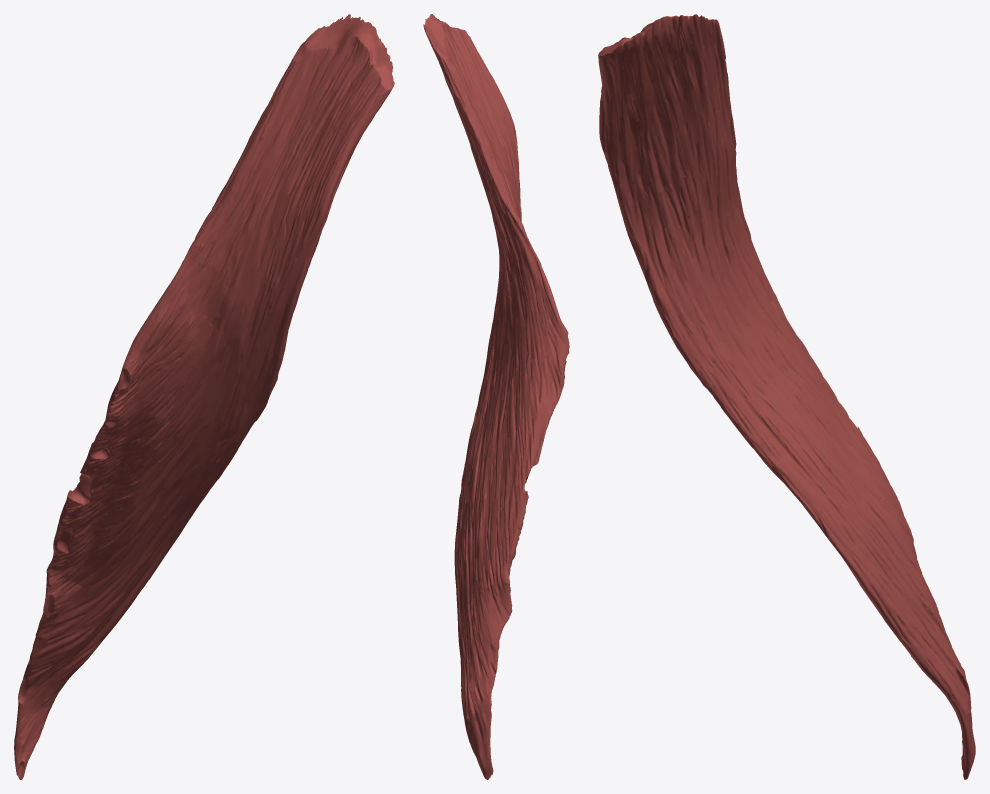
File: FMA22729.glb
3 views of the same model, side by side, from view 1: azimuth 30°, elevation 25°; view 2: azimuth 150°, elevation 25°; view 3: azimuth 270°, elevation 25° (orthographic). The views are drawn at different scales.
Visible parts, largest first — view 1: FMA22729; view 2: FMA22729; view 3: FMA22729.
Boxes of the visible parts, left/top/right/bottom form: FMA22729: left=14, top=14, right=394, bottom=779; FMA22729: left=423, top=14, right=569, bottom=779; FMA22729: left=598, top=14, right=975, bottom=779.
Size of the model in its own units: 0.0595 by 0.2089 by 0.0817.
